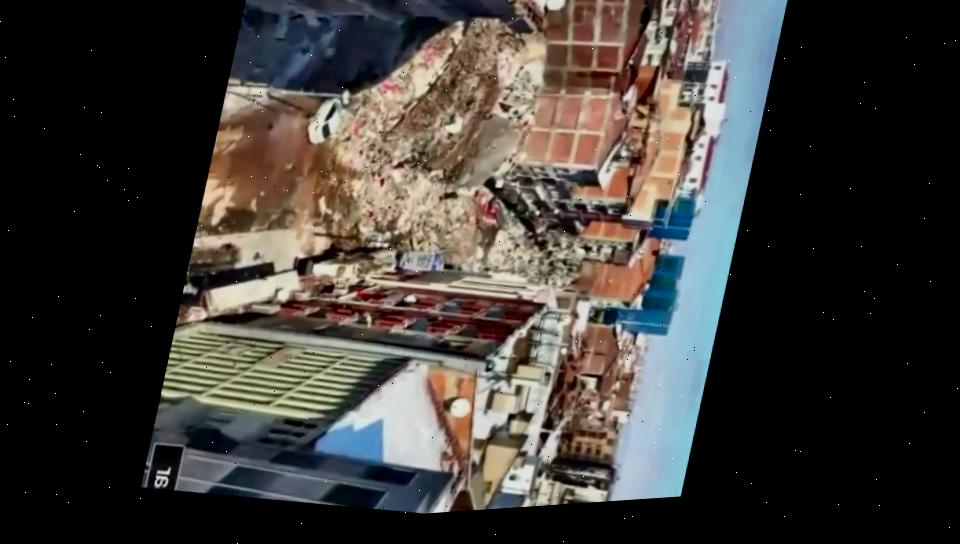kapali: (272, 111, 489, 268), (481, 202, 580, 289)
